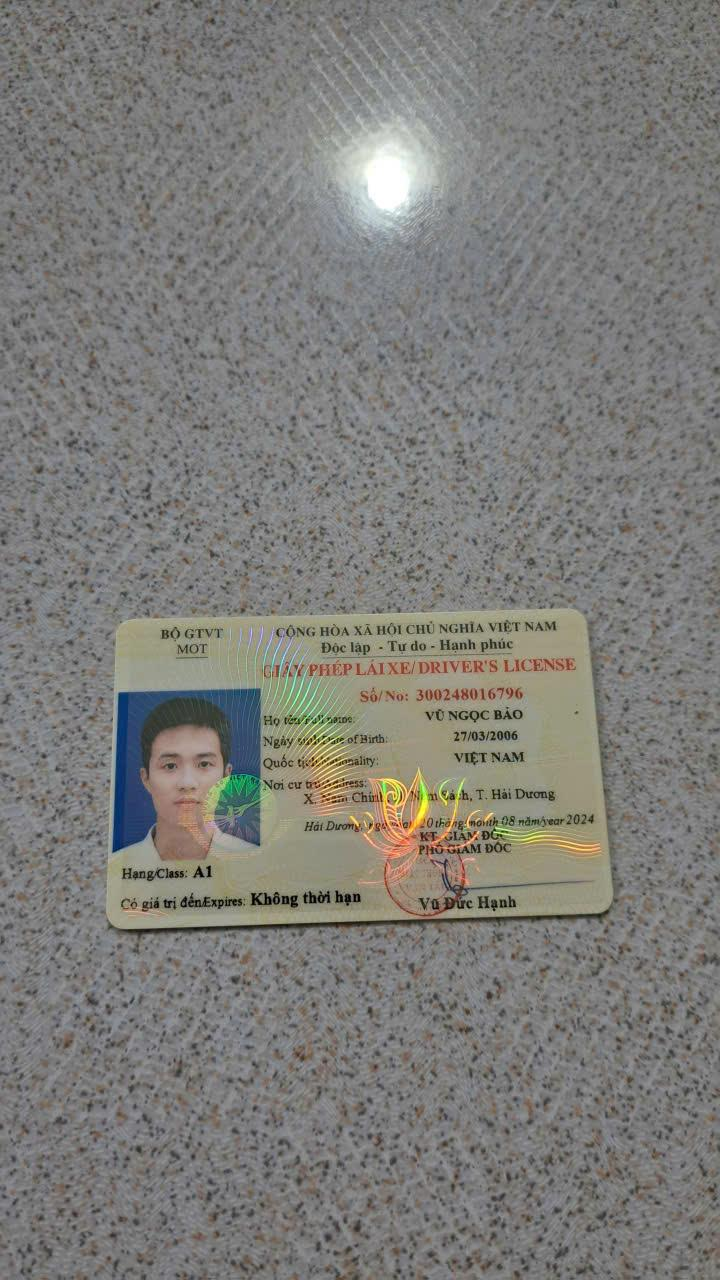gplx: (104, 603, 618, 932)
